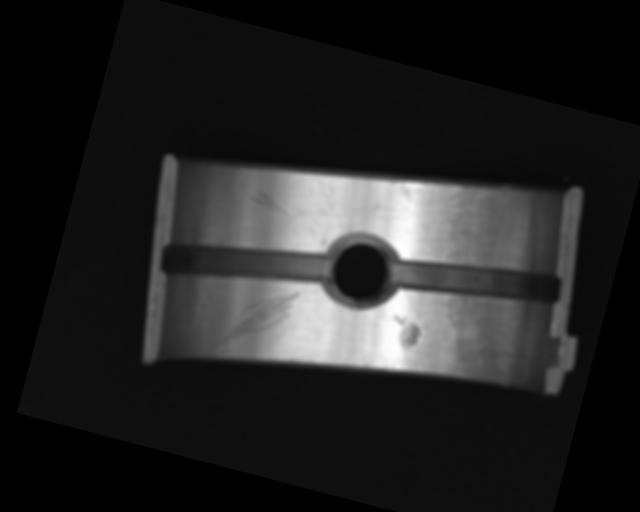bruise: (387, 313, 425, 351)
gap: (158, 216, 333, 311), (389, 235, 563, 322)
hole: (317, 225, 405, 317)
nick: (215, 274, 299, 367), (246, 187, 303, 221)
